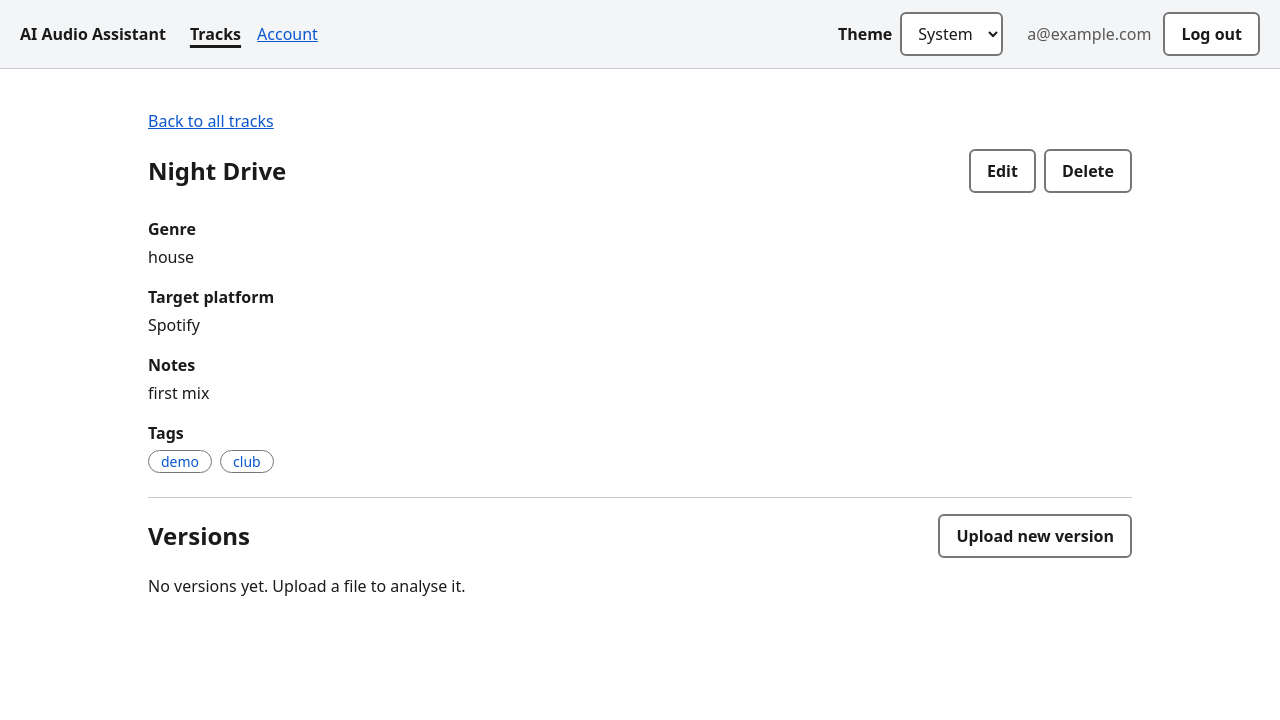
it: deleting › asks first and goes back to the list after deleting
Expected: the heading "Night Drive" is shown, x1=148 y1=153 x2=286 y2=189
Click the button "Delete".
click(1088, 171)  # box x1=1044 y1=149 x2=1132 y2=193
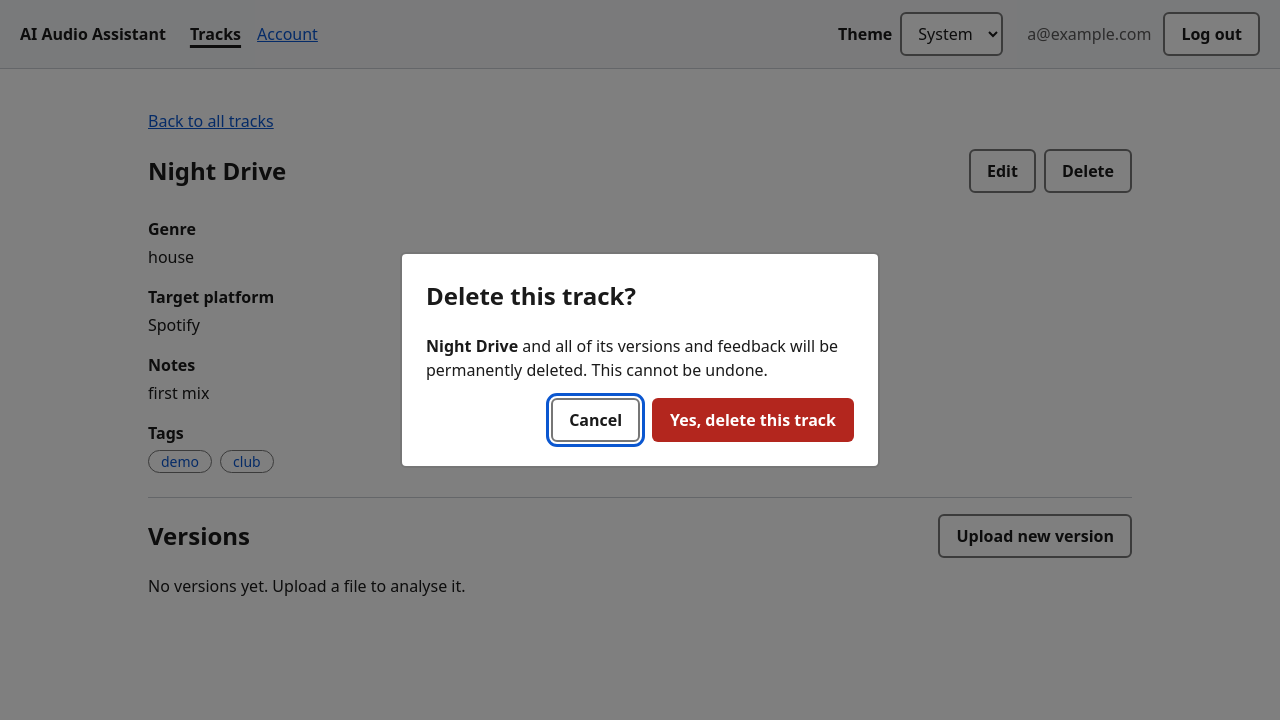
Expected: the dialog "Delete this track?" is shown, x1=400 y1=252 x2=880 y2=468
Click the button "Yes, delete this track".
click(753, 420)  # box x1=652 y1=398 x2=854 y2=442
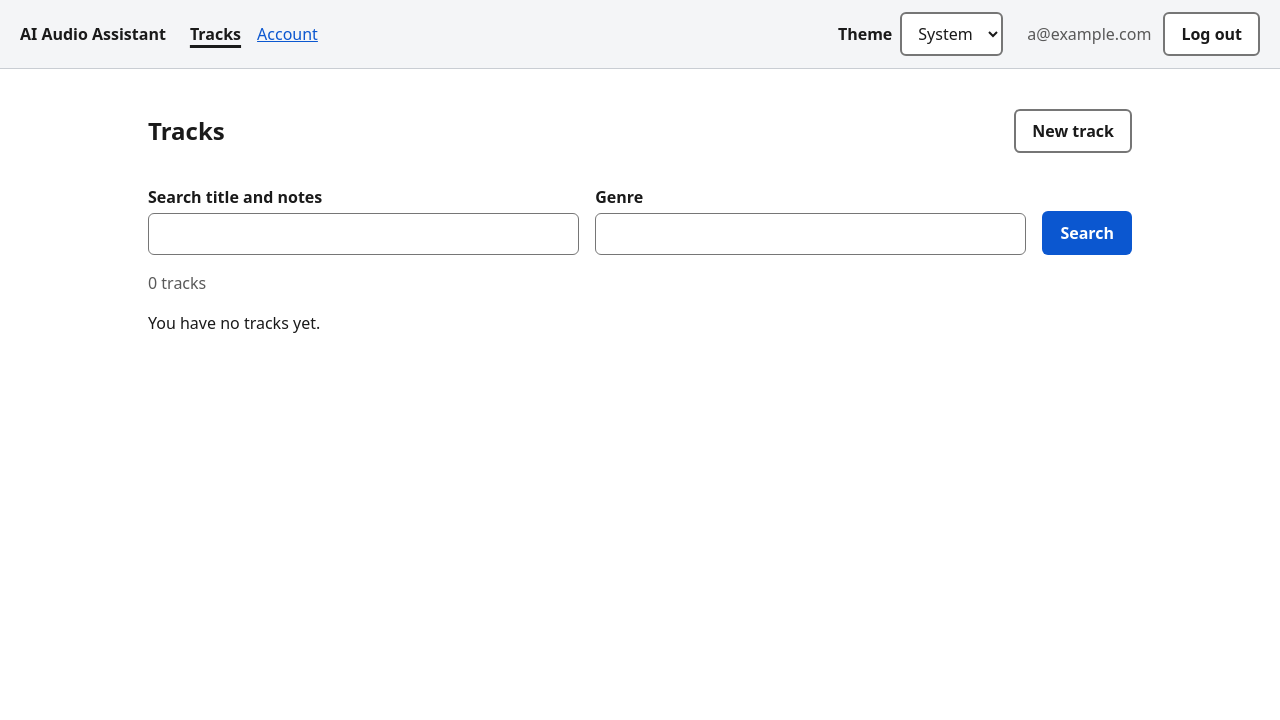
Expected: the heading "Tracks" is shown, x1=148 y1=113 x2=225 y2=149
